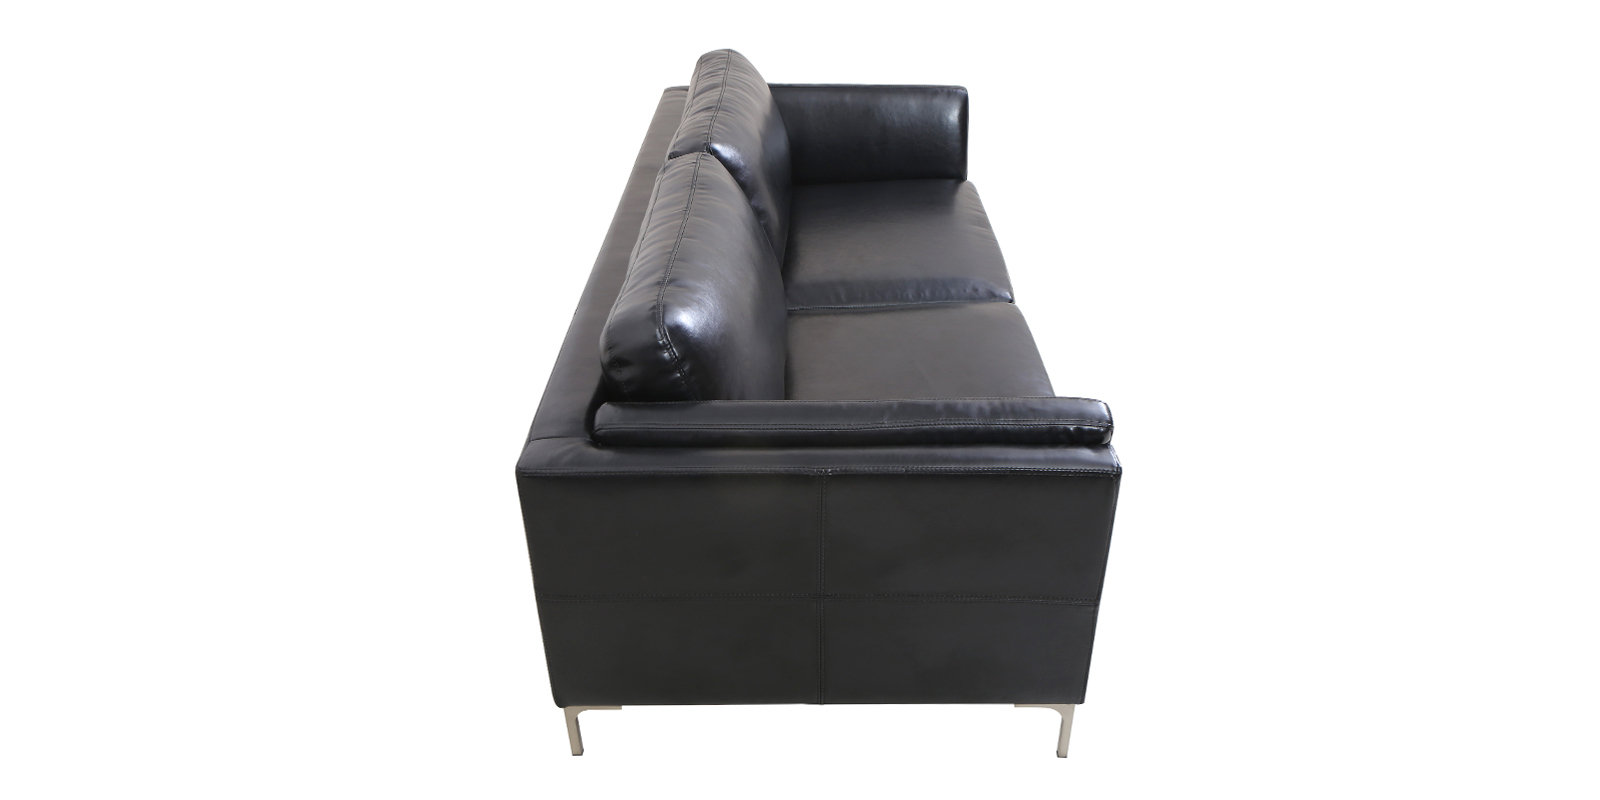Forma Three Seater Sofa in Black Colour by Zofa: (520, 39, 1139, 774)
